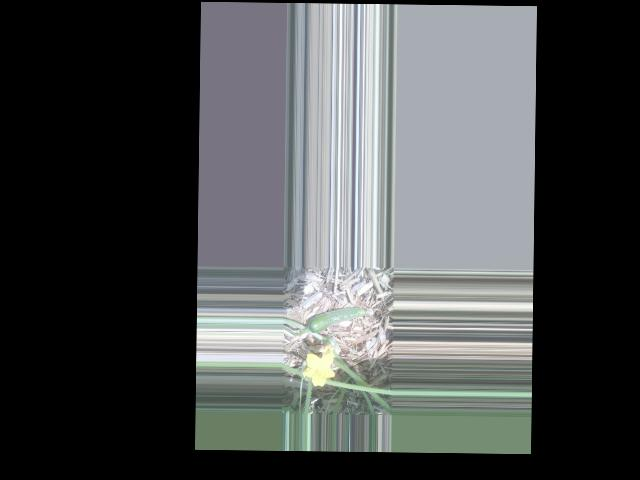cucumber: (306, 305, 371, 334)
